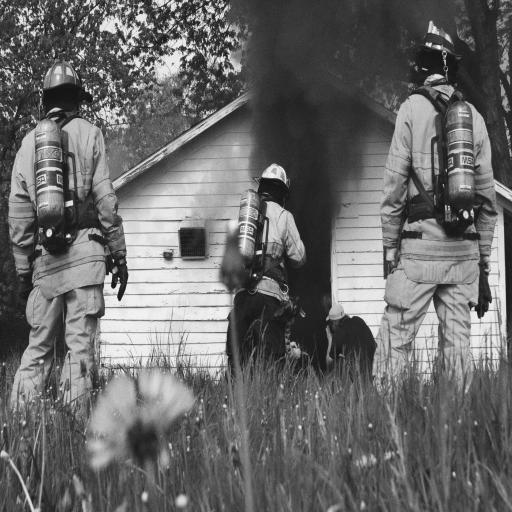smoke: (242, 16, 374, 161)
